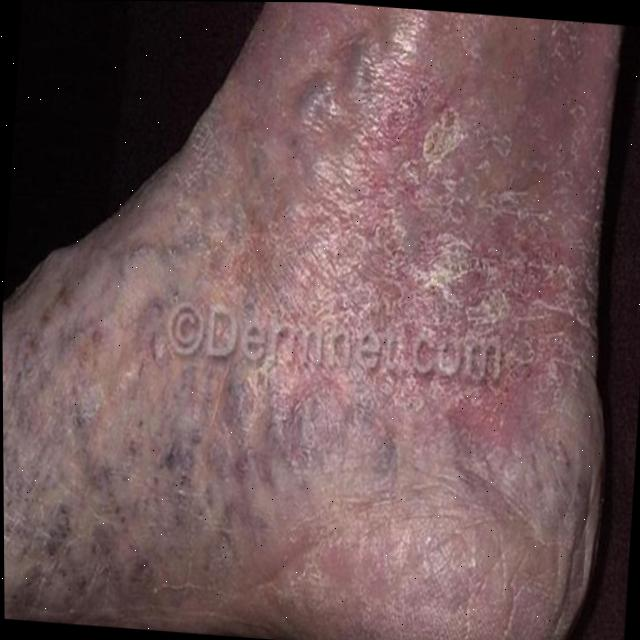Eczema: (150, 1, 595, 446), (3, 438, 204, 593)
